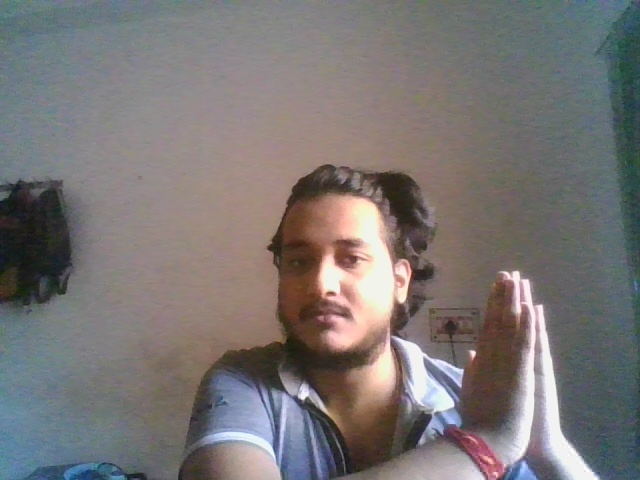ThankYou: (460, 269, 560, 452)
